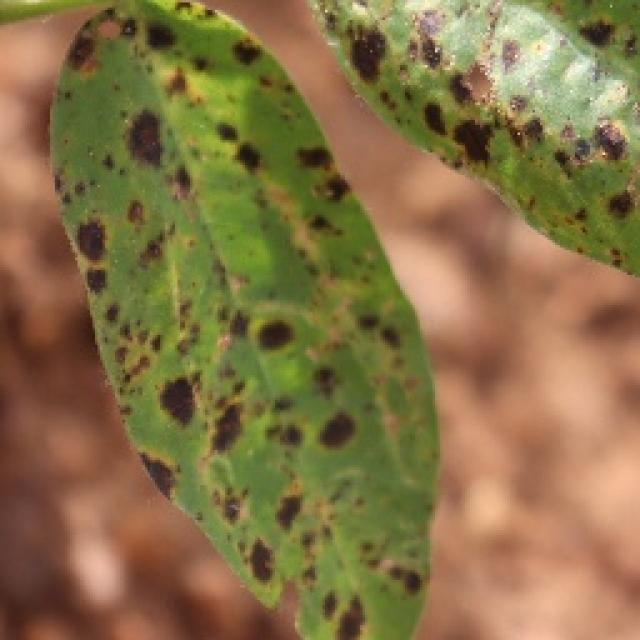Yellowish: (1, 0, 434, 640), (278, 0, 640, 290)
